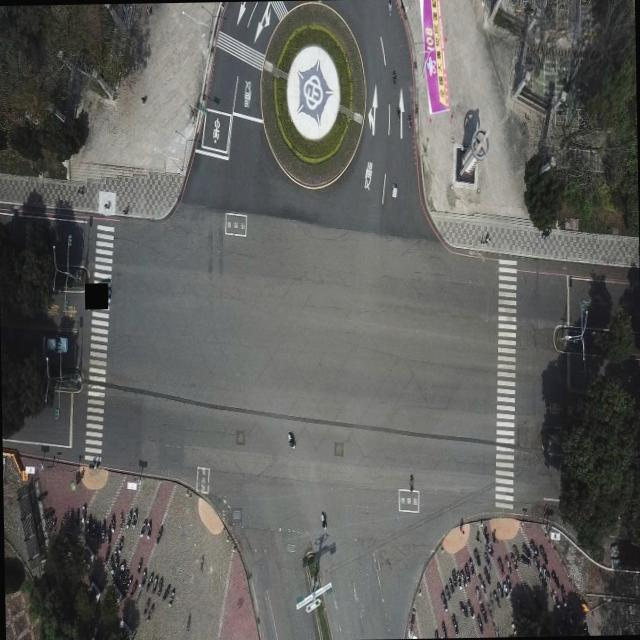bike: (482, 561, 492, 584), (552, 587, 562, 610), (500, 577, 510, 599), (460, 598, 470, 618), (538, 565, 548, 584), (441, 581, 448, 608), (551, 566, 560, 587), (142, 518, 150, 540), (474, 578, 482, 600), (483, 539, 493, 556), (451, 612, 458, 636), (508, 542, 517, 560), (130, 506, 138, 526), (461, 570, 469, 590), (477, 599, 485, 619), (167, 584, 174, 606), (441, 616, 448, 637), (146, 599, 153, 620), (287, 428, 295, 446), (154, 571, 160, 595), (109, 511, 115, 534), (389, 182, 397, 198), (319, 508, 326, 526), (118, 534, 124, 554), (140, 568, 146, 588), (153, 525, 159, 545), (81, 499, 88, 514), (125, 506, 130, 526), (494, 586, 499, 605)
